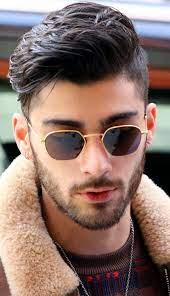g.y: (42, 125, 86, 160)
